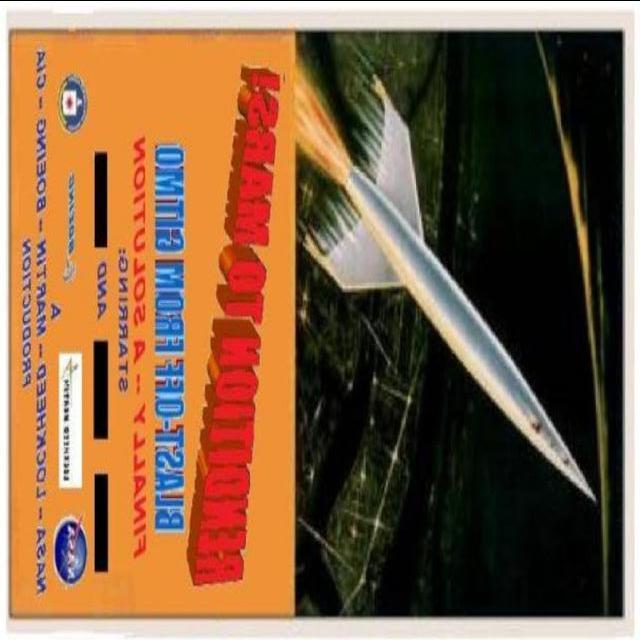missile: (410, 229, 601, 504)
